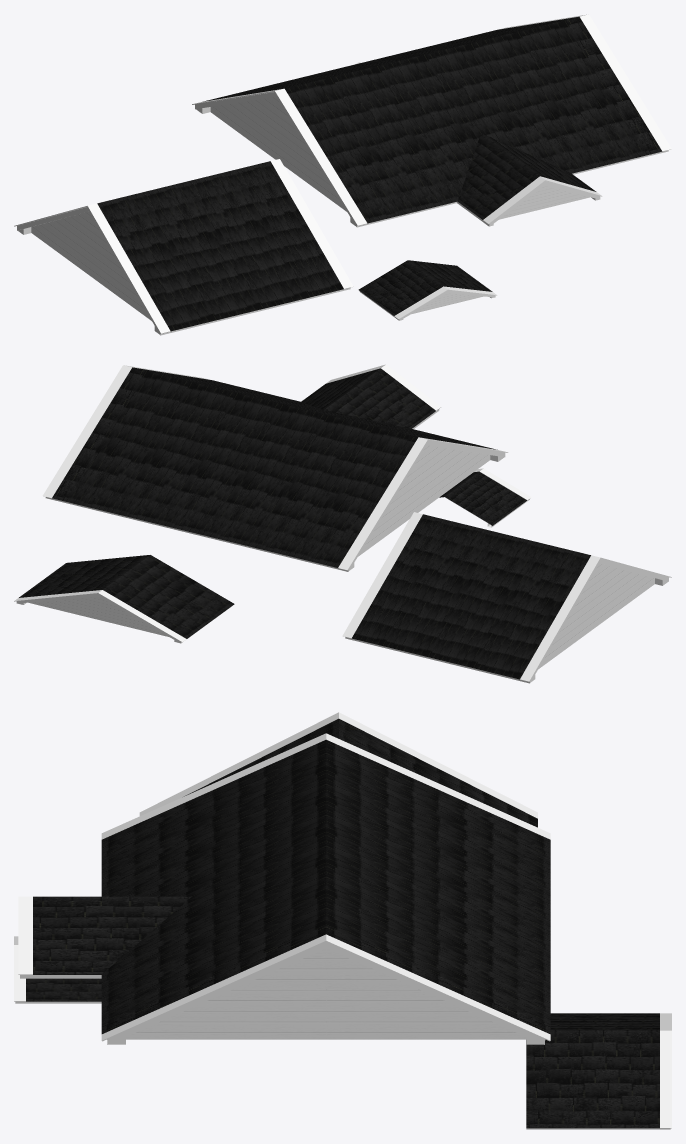
Rendered from Roof.fbx.
The picture shows the model from 3 angles, top to bottom: view 1: azimuth 30°, elevation 25°; view 2: azimuth 150°, elevation 25°; view 3: azimuth 270°, elevation 25°; orthographic projection. The views are drawn at different scales.
Parts seen in each view (by area): view 1: Roof.005, Roof.011, Roof.006, Roof.010, Roof_End.002, Roof.009, Roof.002, Roof.003, Roof.007, Roof_End.003, Roof.008, Roof.004 (+7 smaller); view 2: Roof.001, Roof.005, Roof.006, Roof.011, Roof.010, Roof.007, Roof.008, Roof_End.002, Roof.003, Roof.009, Roof.002, Roof_End.003 (+8 smaller); view 3: Roof_End.001, Roof.001, Roof.011, Roof.005, Roof.006, Roof.010, Roof.007, Roof.008, Roof.013, Roof.012, Roof.009, Roof_End.002 (+4 smaller).
Boxes of the visible parts, box(x1,y1,x2,y2) form: Roof.005: box(203, 77, 413, 225); Roof.011: box(437, 20, 648, 167); Roof.006: box(250, 66, 458, 213); Roof.010: box(392, 31, 601, 174); Roof_End.002: box(192, 88, 367, 227); Roof.009: box(97, 192, 217, 333); Roof.002: box(144, 180, 264, 321); Roof.003: box(191, 169, 310, 310); Roof.007: box(298, 54, 478, 196); Roof_End.003: box(14, 203, 170, 335); Roof.008: box(344, 43, 544, 161); Roof.004: box(238, 161, 343, 298); Roof.001: box(19, 555, 234, 639); Roof.005: box(292, 426, 497, 569); Roof.006: box(247, 415, 450, 558); Roof.011: box(65, 370, 269, 514); Roof.010: box(111, 382, 306, 525); Roof.007: box(201, 404, 403, 547); Roof.008: box(156, 393, 331, 536); Roof_End.002: box(338, 437, 508, 571); Roof.003: box(384, 522, 500, 659); Roof.009: box(474, 544, 590, 681); Roof.002: box(429, 533, 545, 670); Roof_End.003: box(520, 555, 671, 683); Roof_End.001: box(101, 934, 550, 1044); Roof.001: box(526, 1013, 659, 1129); Roof.011: box(101, 894, 550, 1025); Roof.005: box(101, 739, 550, 870); Roof.006: box(101, 770, 550, 901); Roof.010: box(101, 863, 550, 994); Roof.007: box(113, 801, 550, 932); Roof.008: box(128, 832, 550, 963); Roof.013: box(33, 896, 191, 978); Roof.012: box(101, 925, 550, 1034); Roof.009: box(184, 718, 537, 827); Roof_End.002: box(101, 733, 550, 839).
Size of the model in its own units: 2121 by 617 by 1798.
